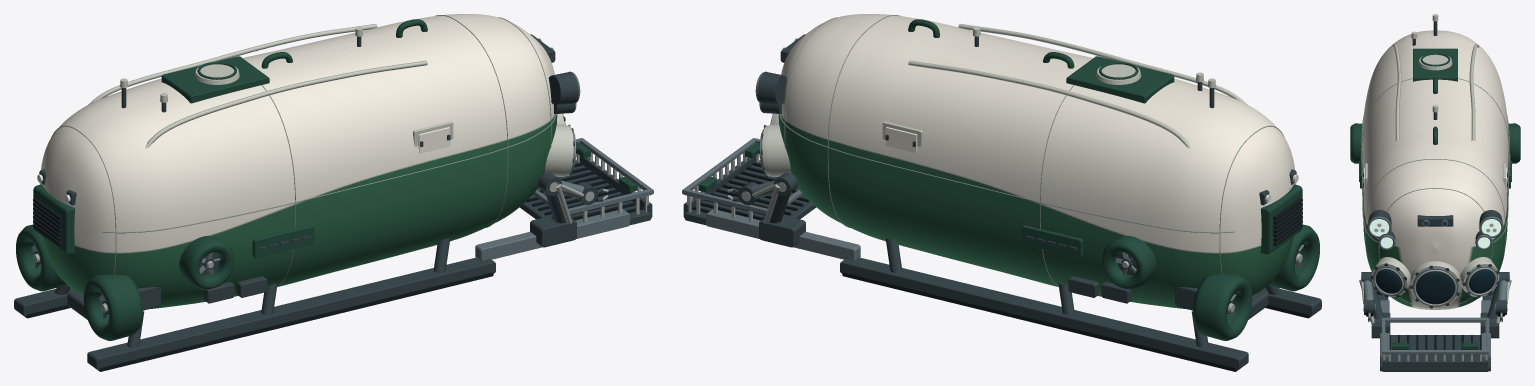
The model's file is fendouzhe-exterior.glb.
The picture shows the model from 3 angles, left to right: view 1: azimuth 30°, elevation 25°; view 2: azimuth 150°, elevation 25°; view 3: azimuth 270°, elevation 25°; orthographic projection. The views are drawn at different scales.
Parts seen in each view (by area): view 1: Hull_Main, ExteriorDetails, Skid_R, ScienceBasket, AftThruster_R, ManipulatorSupport_R, LateralThruster_R, HullPanelSeams, AftThruster_L, Arm_R_Placeholder, Viewport_R, Skid_L (+1 smaller); view 2: Hull_Main, ExteriorDetails, Skid_L, ScienceBasket, AftThruster_L, ManipulatorSupport_L, LateralThruster_L, HullPanelSeams, AftThruster_R, Arm_L_Placeholder, Viewport_L, Skid_R (+1 smaller); view 3: Hull_Main, ScienceBasket, ExteriorDetails, Viewport_C, Viewport_L, Viewport_R, HullPanelSeams, Lights_L, Lights_R, Arm_L_Placeholder, Arm_R_Placeholder, ManipulatorSupport_L (+4 smaller).
Part boxes in pixels (<box>): Hull_Main: <box>39,14,557,308</box>; ExteriorDetails: <box>33,19,453,319</box>; Skid_R: <box>87,238,495,371</box>; ScienceBasket: <box>519,138,653,225</box>; AftThruster_R: <box>83,274,160,340</box>; ManipulatorSupport_R: <box>475,209,629,260</box>; LateralThruster_R: <box>179,235,233,289</box>; HullPanelSeams: <box>51,15,556,296</box>; AftThruster_L: <box>16,224,65,291</box>; Arm_R_Placeholder: <box>538,172,608,223</box>; Viewport_R: <box>544,124,576,176</box>; Skid_L: <box>14,284,74,318</box>; Hull_Main: <box>778,14,1296,308</box>; ExteriorDetails: <box>882,19,1302,319</box>; Skid_L: <box>840,238,1248,371</box>; ScienceBasket: <box>682,138,816,225</box>; AftThruster_L: <box>1175,274,1252,340</box>; ManipulatorSupport_L: <box>706,209,860,260</box>; LateralThruster_L: <box>1102,235,1156,289</box>; HullPanelSeams: <box>779,15,1284,296</box>; AftThruster_R: <box>1270,224,1319,291</box>; Arm_L_Placeholder: <box>727,172,797,223</box>; Viewport_L: <box>759,124,791,177</box>; Skid_R: <box>1261,284,1321,318</box>; Hull_Main: <box>1362,30,1508,309</box>; ScienceBasket: <box>1380,317,1490,371</box>; ExteriorDetails: <box>1359,14,1511,192</box>; Viewport_C: <box>1410,261,1460,308</box>; Viewport_L: <box>1460,257,1499,298</box>; Viewport_R: <box>1370,257,1410,297</box>; HullPanelSeams: <box>1361,78,1509,307</box>; Lights_L: <box>1475,210,1503,249</box>; Lights_R: <box>1367,210,1395,249</box>; Arm_L_Placeholder: <box>1485,272,1511,324</box>; Arm_R_Placeholder: <box>1359,272,1385,324</box>; ManipulatorSupport_L: <box>1480,300,1499,358</box>.
Size of the model in its own units: 10.13 by 4.16 by 3.46.
Materials: 18 (1 with a texture image).
